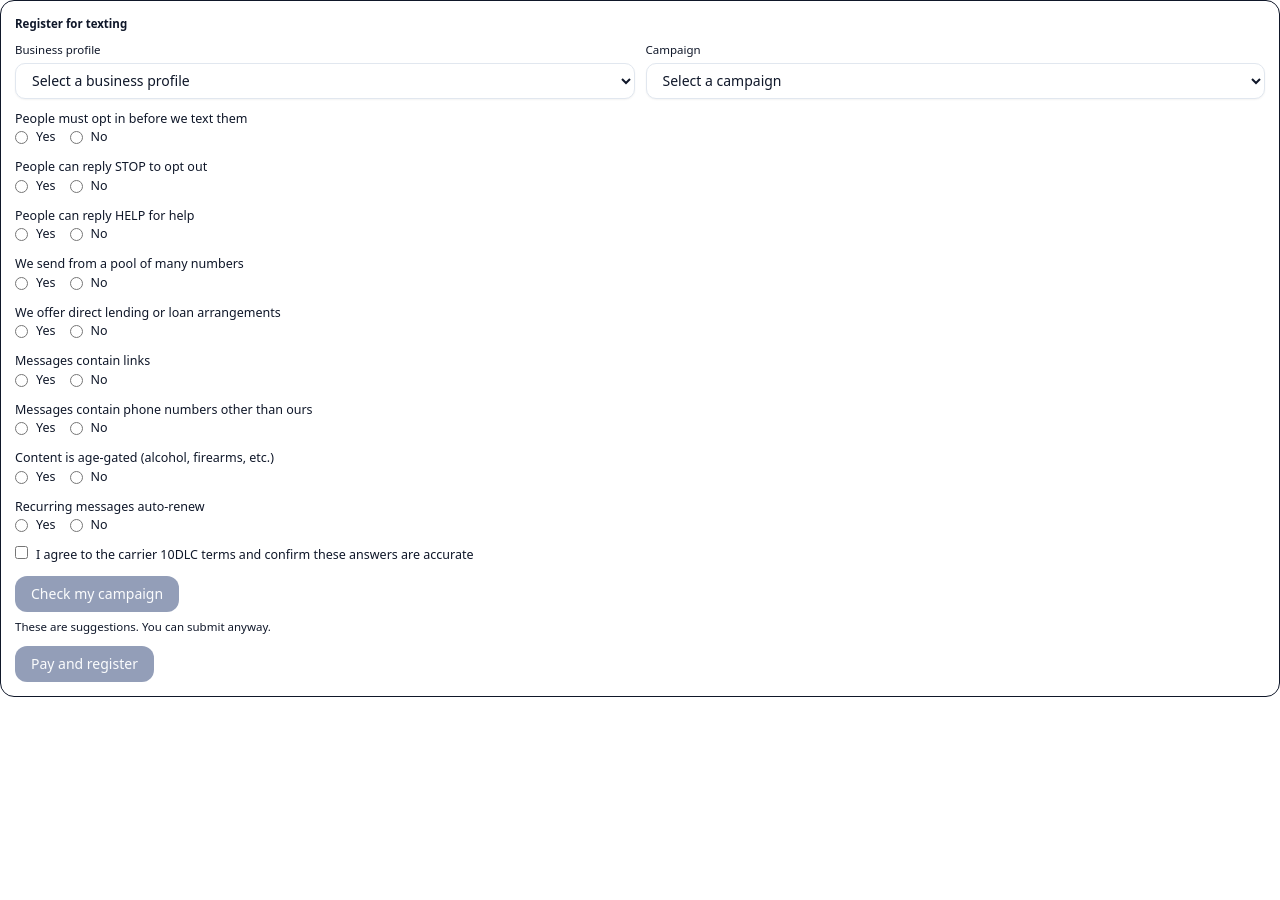
Scenario: TextingRegistrationCard checkout and pricing › shows the sole-proprietor fields, note and priced quote once a sole-proprietor brand is chosen
Select "Acme Inc" in the dropdown labelled "Business profile" at (325, 80), box [15,62,634,98]
(page scrolled)
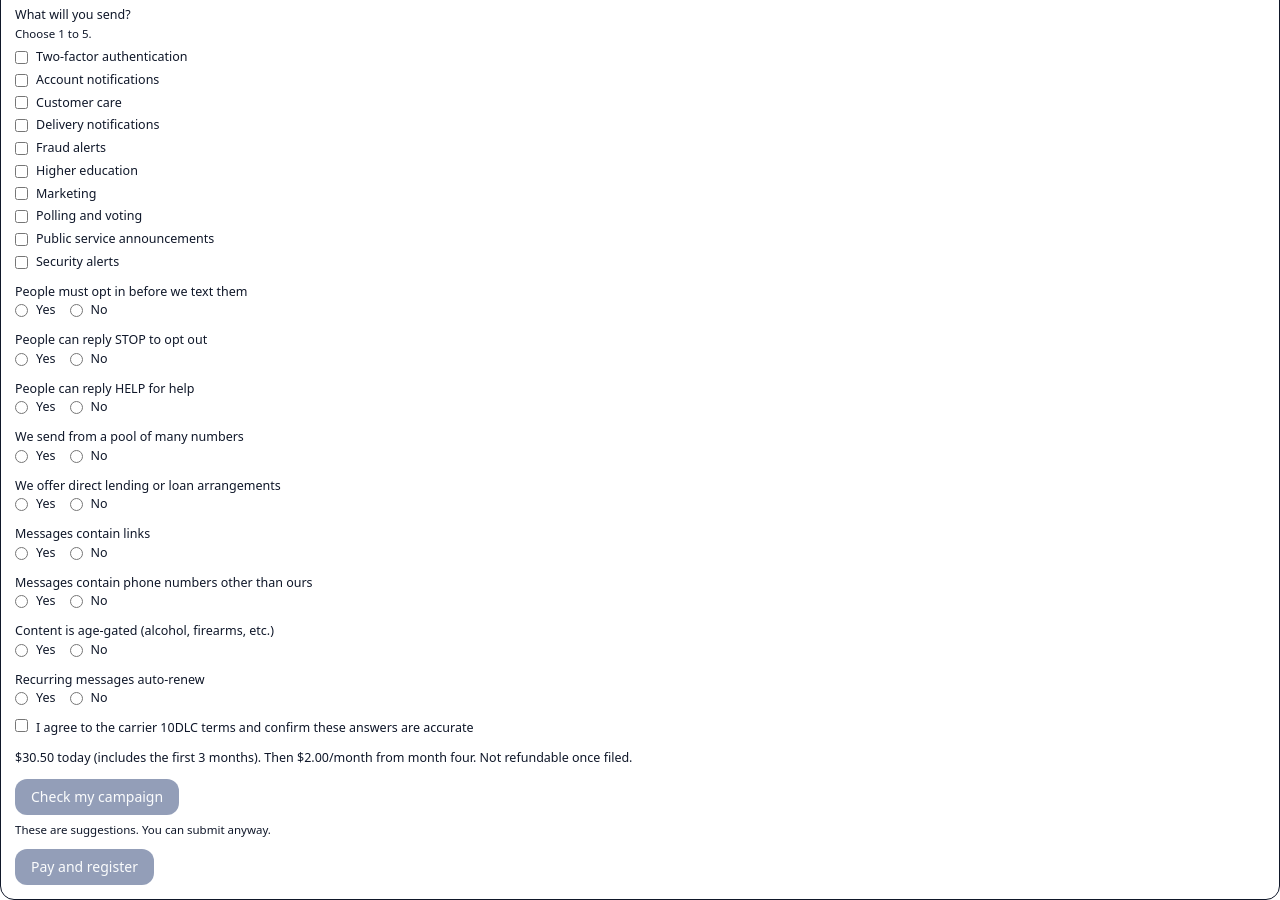
Now the text "Choose 1 to 5." is shown, box [15,26,92,41]
Now the text with test id "texting-quote" shows "$30.50 today (includes the first 3 months). Then $2.00/month from month four. Not refundable once filed.", box [15,749,632,766]
